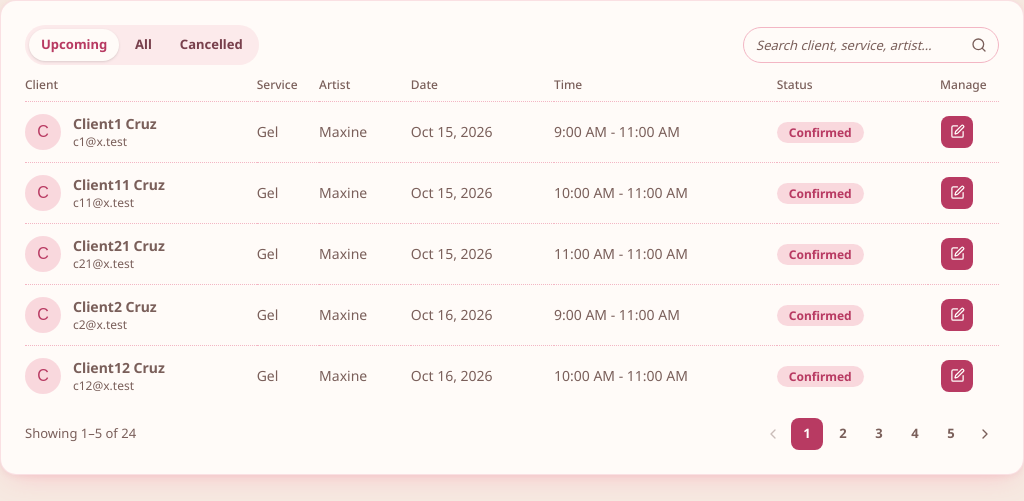
it: BookingsTable › searches by client, service or artist, back on the first page
Click the button named "Page 2". click: x=843, y=434
box: [827,418,859,450]
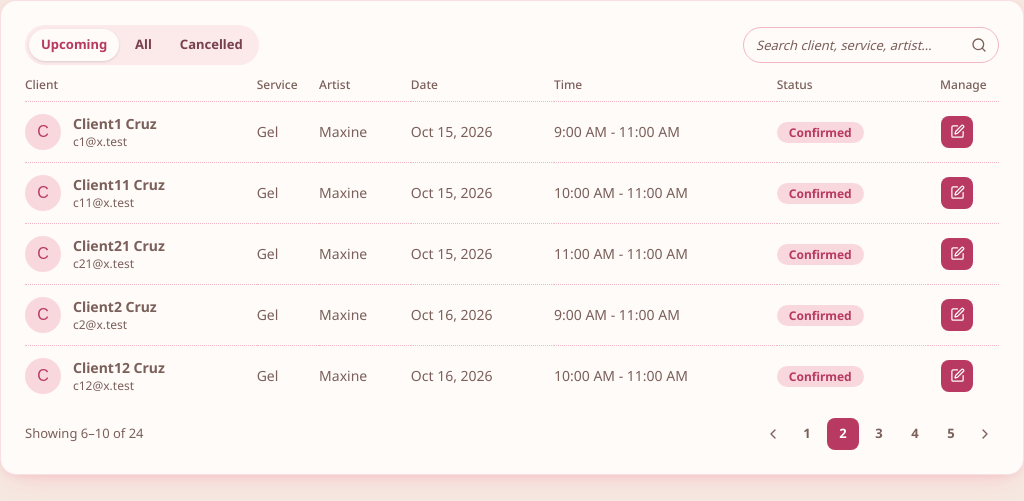
Type "jun" into the search field named "Search bookings". click: x=871, y=45
box: [743,27,999,63]
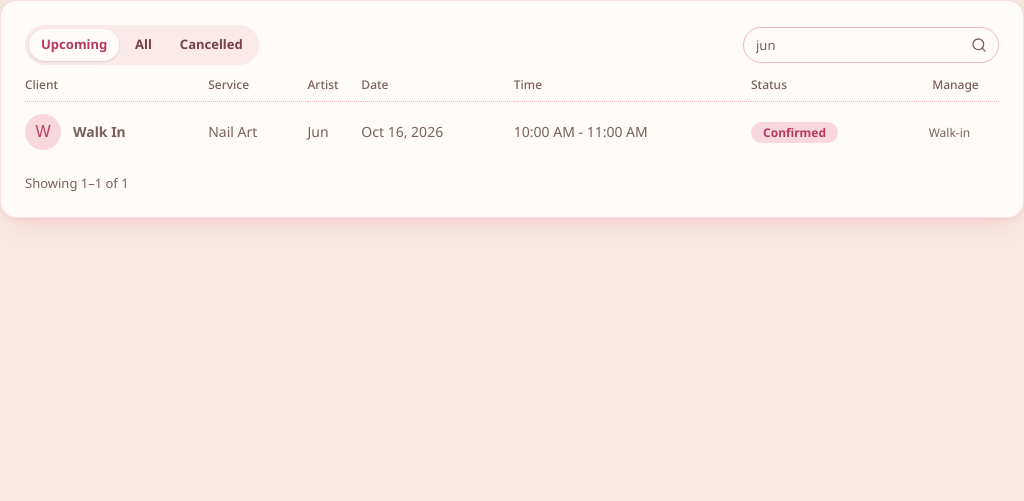
Expected: the text "Showing 1–1 of 1" is shown, [25,174,129,193]
Replace the text in the search field named "Search bookings" with "nobody". click: x=871, y=45
box: [743,27,999,63]
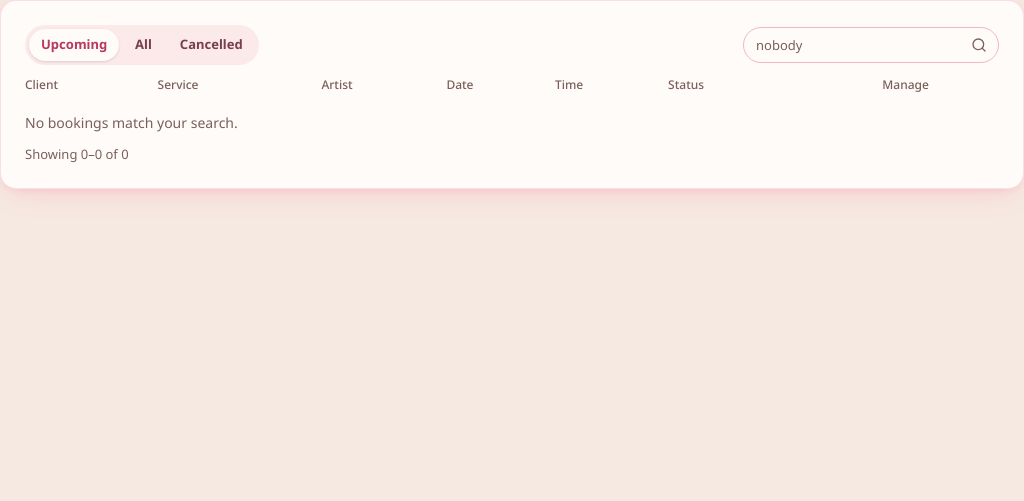
Expected: the text "No bookings match your search." is shown, [25,112,238,132]
